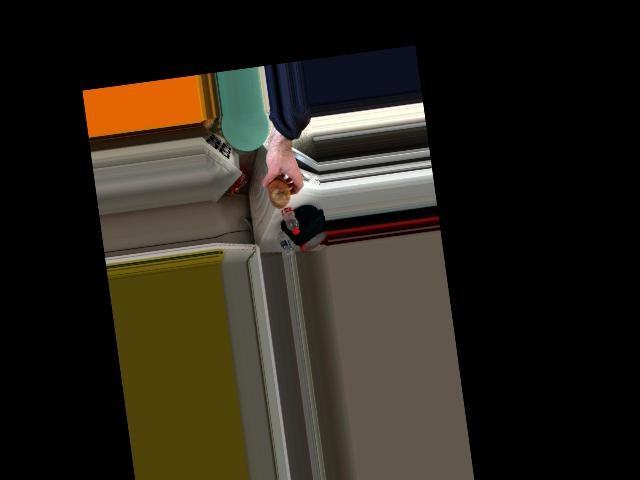sweet_potato: (263, 169, 297, 209)
